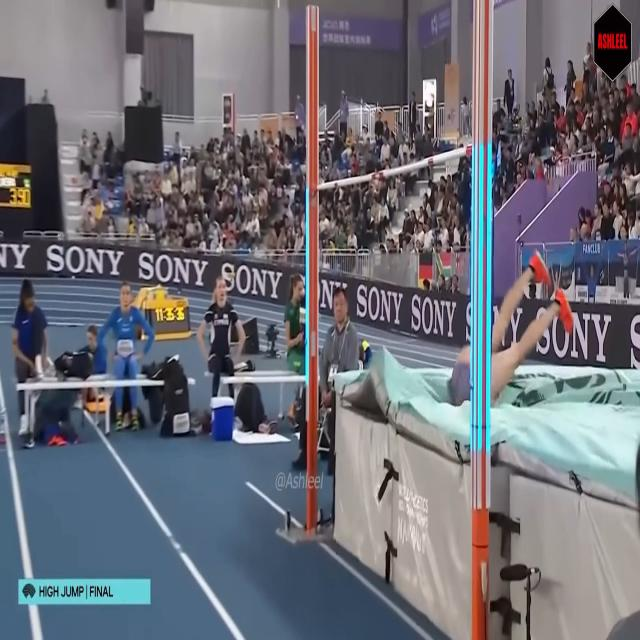land: (448, 247, 576, 405)
